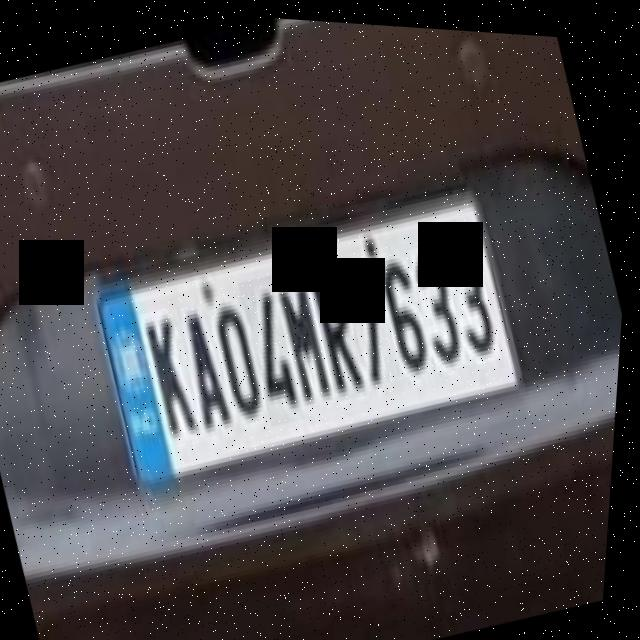0: (208, 294, 280, 423)
3: (405, 234, 480, 367), (439, 228, 512, 360)
4: (234, 269, 318, 424)
6: (372, 247, 446, 373)
7: (334, 249, 415, 395)
A: (172, 293, 248, 435)
K: (134, 303, 211, 445)
M: (267, 265, 348, 408)
R: (304, 260, 379, 398)
